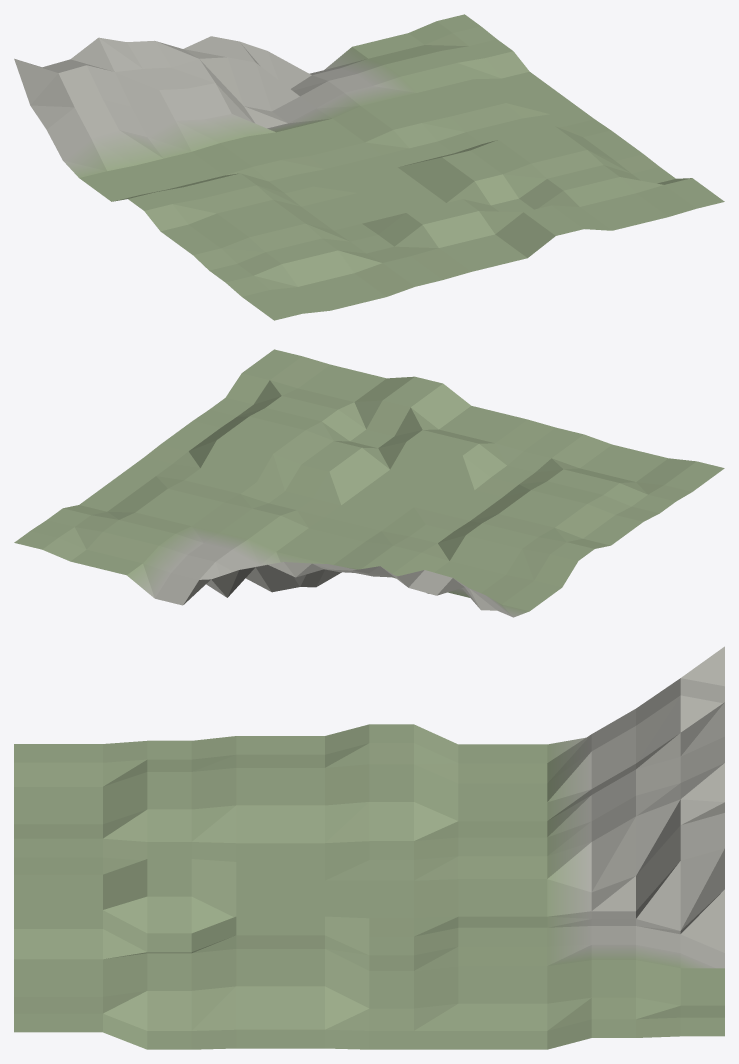
The picture shows the model from 3 angles, top to bottom: view 1: azimuth 30°, elevation 25°; view 2: azimuth 150°, elevation 25°; view 3: azimuth 270°, elevation 25°; orthographic projection. The views are drawn at different scales.
Bounding box in the file's own units: 32 × 5.94 × 32.
